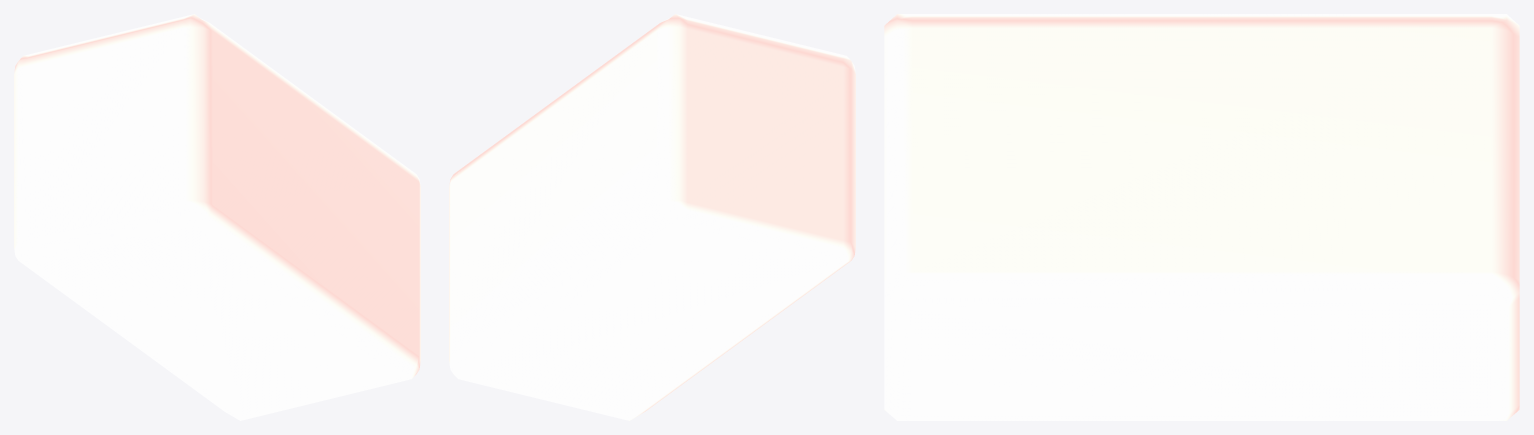
The model's file is cpmarket-edit-red.glb.
3 views of the same model, side by side, from view 1: azimuth 30°, elevation 25°; view 2: azimuth 150°, elevation 25°; view 3: azimuth 270°, elevation 25° (orthographic). The views are drawn at different scales.
Visible parts, largest first — view 1: Market-module-type-A_highlight; view 2: Market-module-type-A_highlight; view 3: Market-module-type-A_highlight.
Boxes of the visible parts, x1,y1,x2,y2 form: Market-module-type-A_highlight: [14, 14, 420, 420]; Market-module-type-A_highlight: [449, 14, 855, 420]; Market-module-type-A_highlight: [884, 14, 1519, 420].
Bounding box in the file's own units: 4.05 × 4.05 × 8.05.
